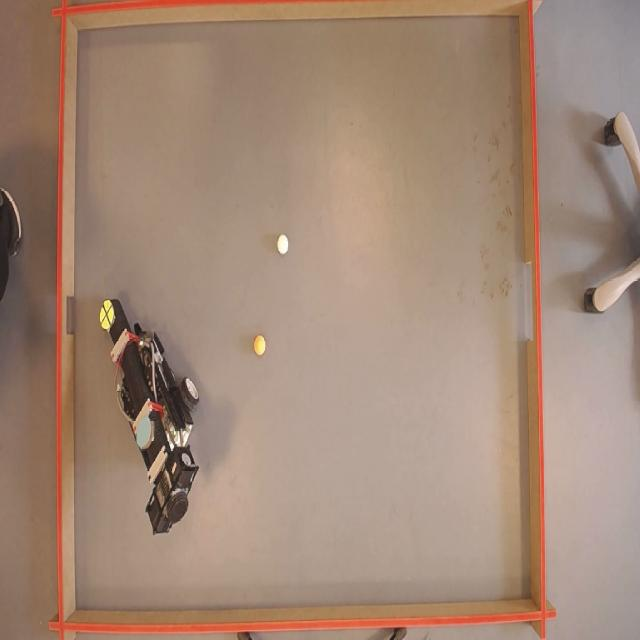orange: (255, 335, 268, 355)
robot: (97, 294, 204, 530)
robot-front: (100, 299, 114, 330)
robot-rear: (136, 416, 152, 447)
white: (275, 234, 289, 254)
